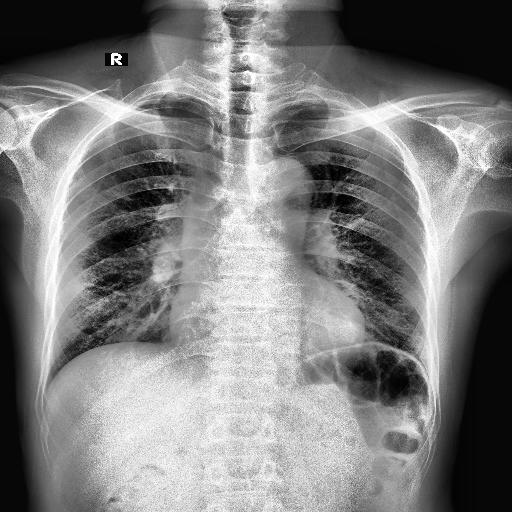0- Aortic enlargement: (252, 158, 316, 222), (253, 156, 313, 222), (256, 158, 314, 208)
11- Pleural thickening: (125, 90, 203, 112), (122, 90, 164, 116)
7- Lung Opacity: (160, 96, 182, 116)
